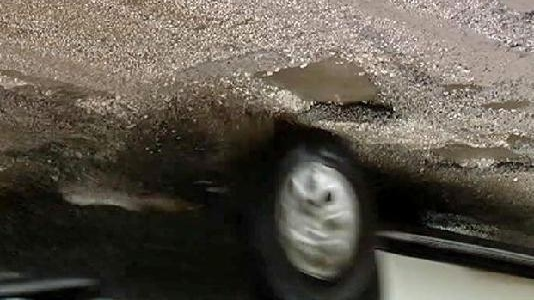pothole: (243, 52, 392, 124), (420, 129, 533, 176), (439, 82, 480, 103), (477, 98, 532, 113), (490, 0, 534, 18)
